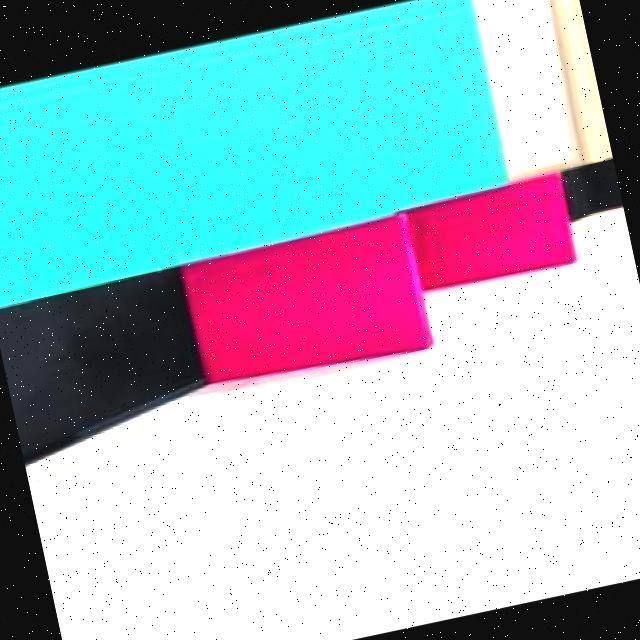xparking: (178, 214, 426, 390), (407, 172, 572, 296)
